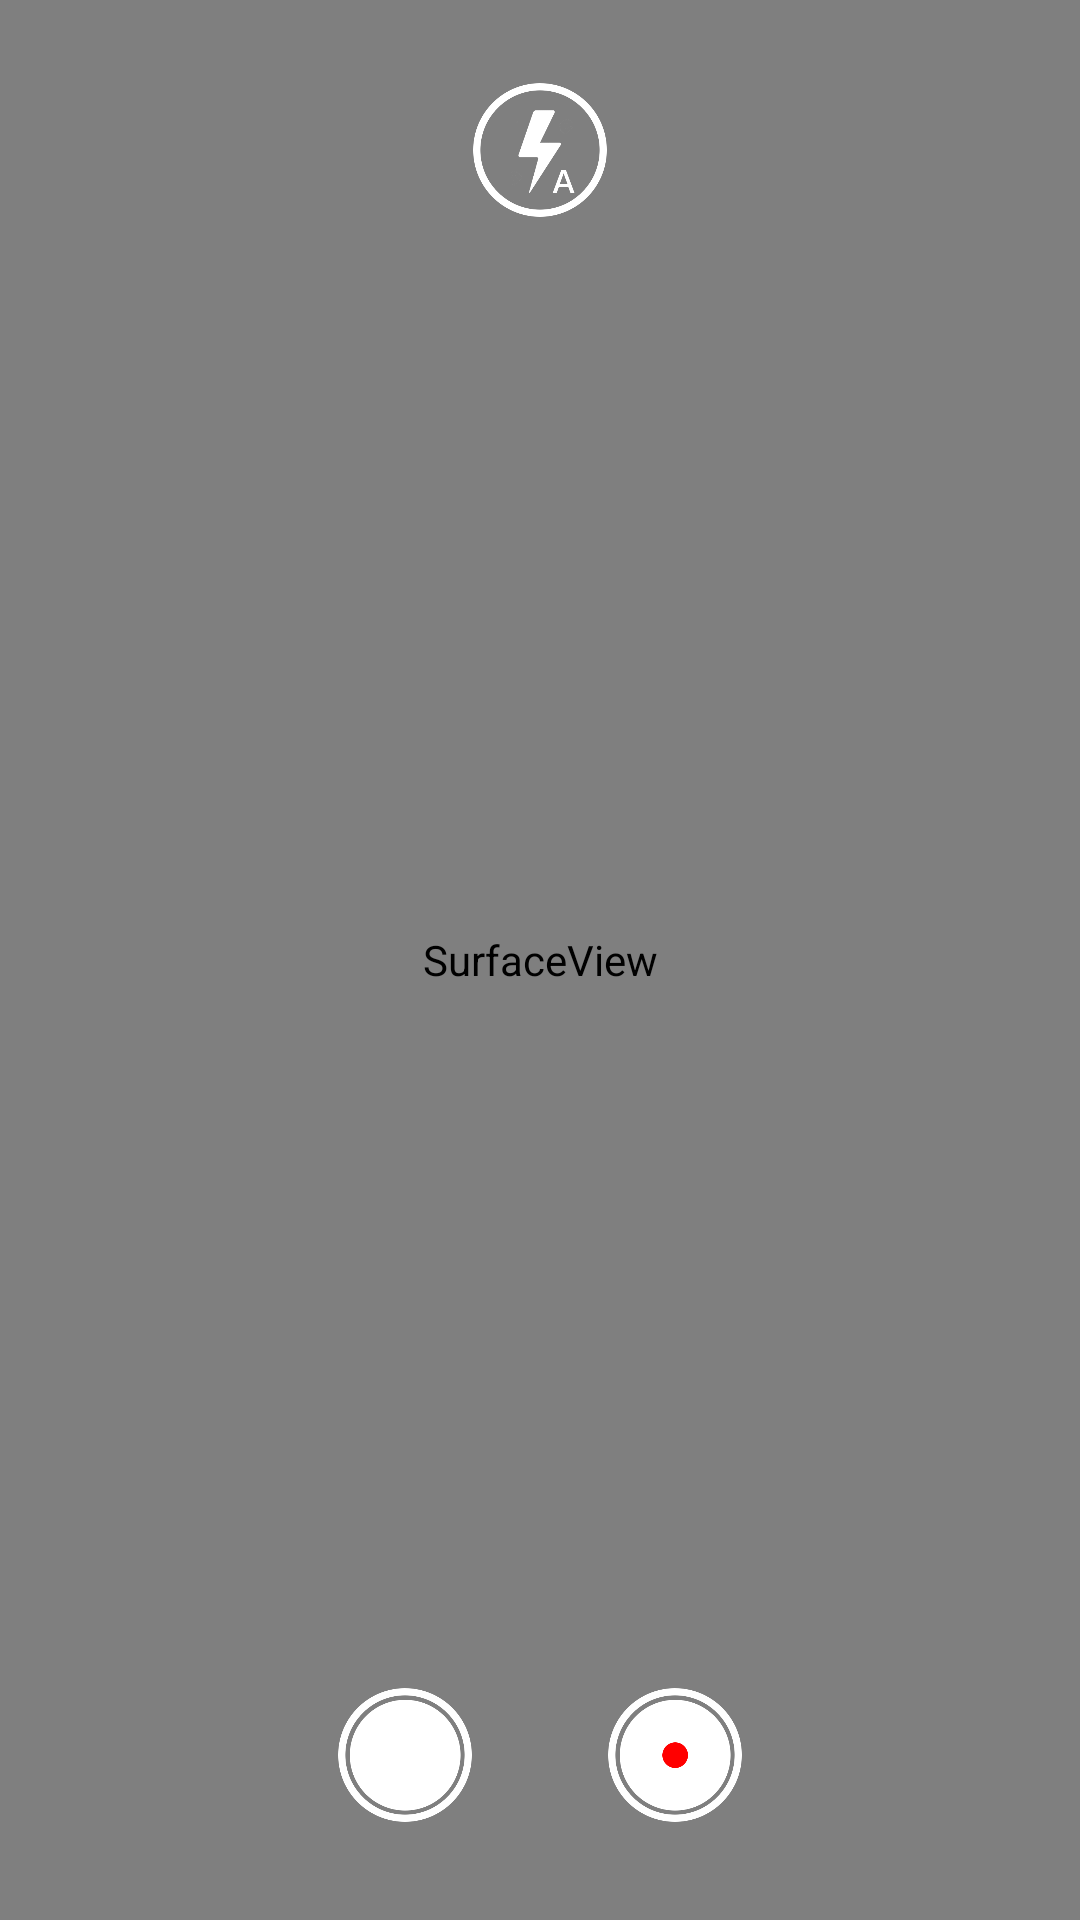

Where icons sit on this 1080 × 1920 app screen, as Rect(x1, y1, x2, y2):
flauto: Rect(473, 83, 607, 217)
rec: Rect(608, 1688, 742, 1822)
shot: Rect(338, 1688, 472, 1822)
